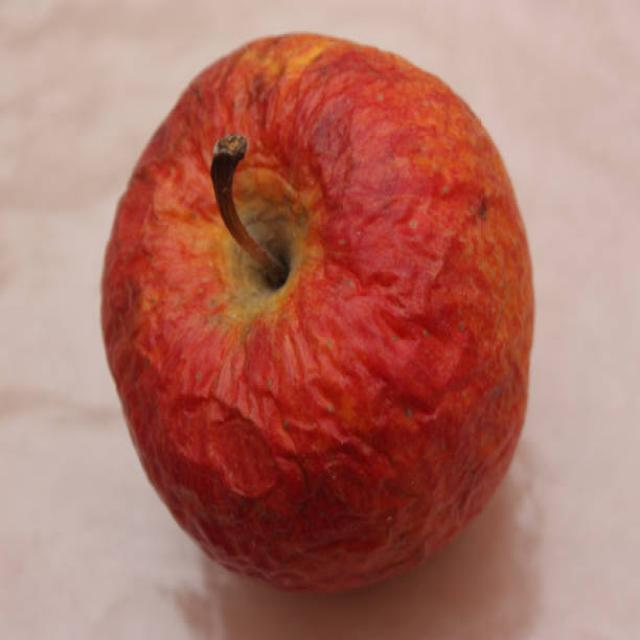overripe: (101, 28, 533, 591)
